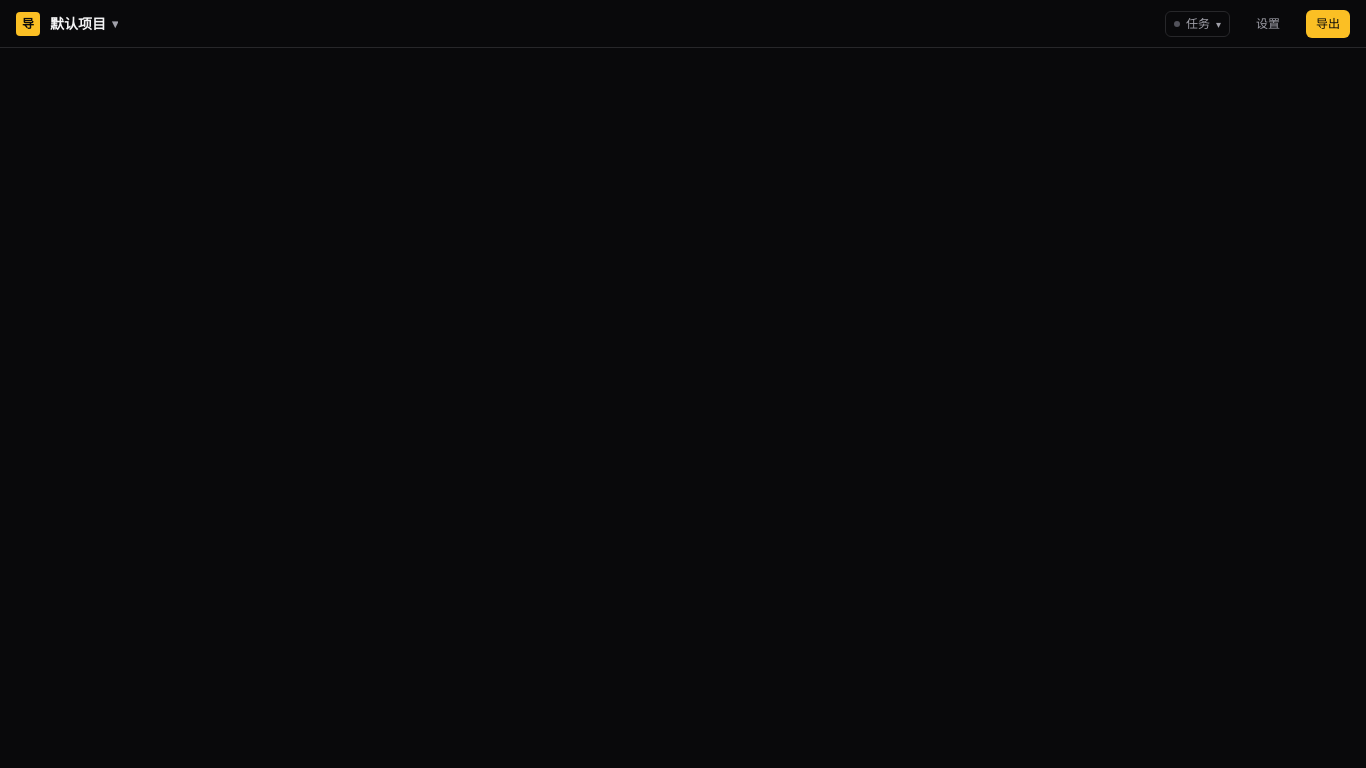
Test: top bar project management › shows the current project name and opens the manager dialog
The width and height of the screenshot is (1366, 768).
Click the button with test id "topbar-project" at (84, 24), box [50, 14, 118, 34]
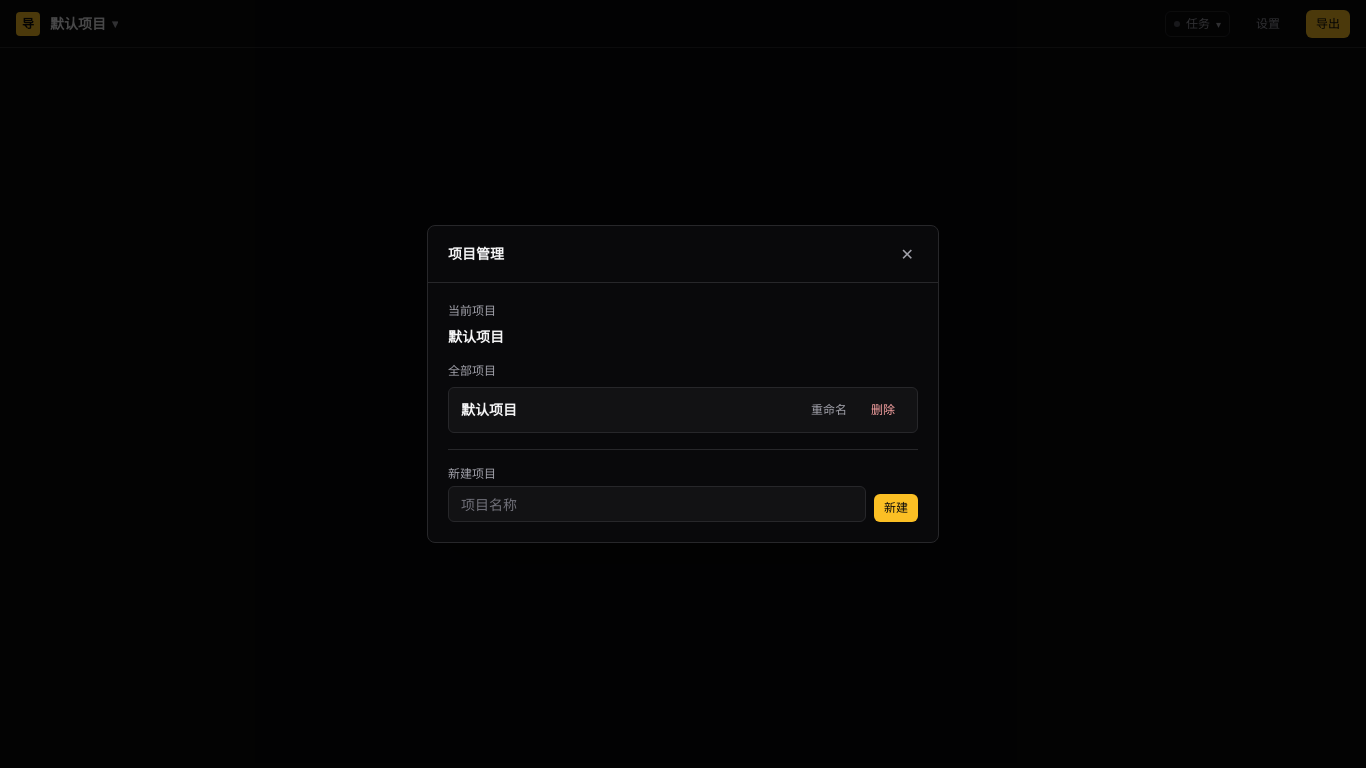
Check: the field with test id "new-project-input" is shown, box [448, 486, 866, 522]
